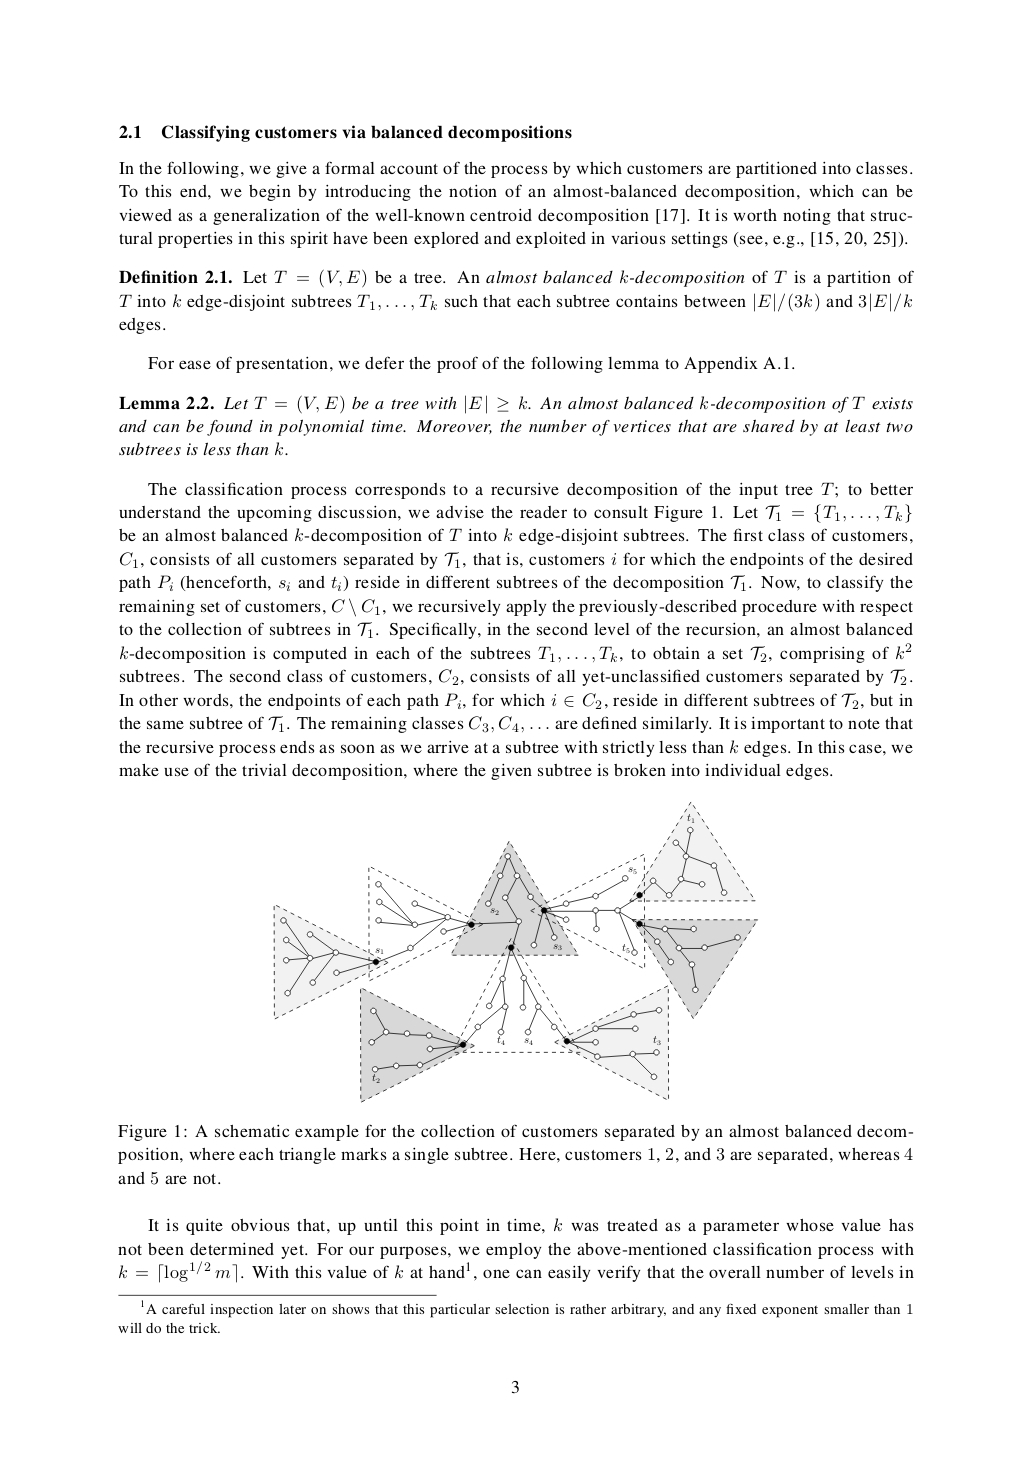figure: (273, 801, 757, 1103)
